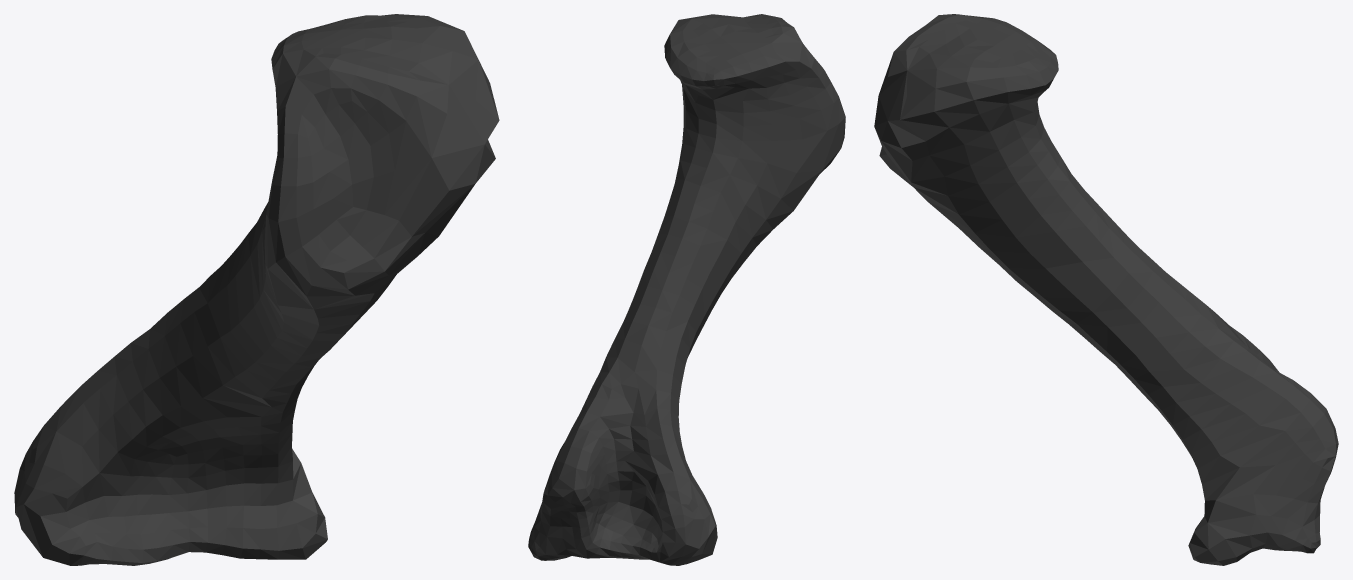
File: RFL_humerus_main.glb
The picture shows the model from 3 angles, left to right: view 1: azimuth 30°, elevation 25°; view 2: azimuth 150°, elevation 25°; view 3: azimuth 270°, elevation 25°; orthographic projection. The views are drawn at different scales.
Parts seen in each view (by area): view 1: RFL_humerus_main; view 2: RFL_humerus_main; view 3: RFL_humerus_main.
Boxes of the visible parts, x1,y1,x2,y2 form: RFL_humerus_main: (14, 14, 499, 565); RFL_humerus_main: (528, 14, 845, 565); RFL_humerus_main: (874, 14, 1338, 565).
Size of the model in its own units: 17.83 by 41.6 by 35.3.
1 material, 1 textured.
